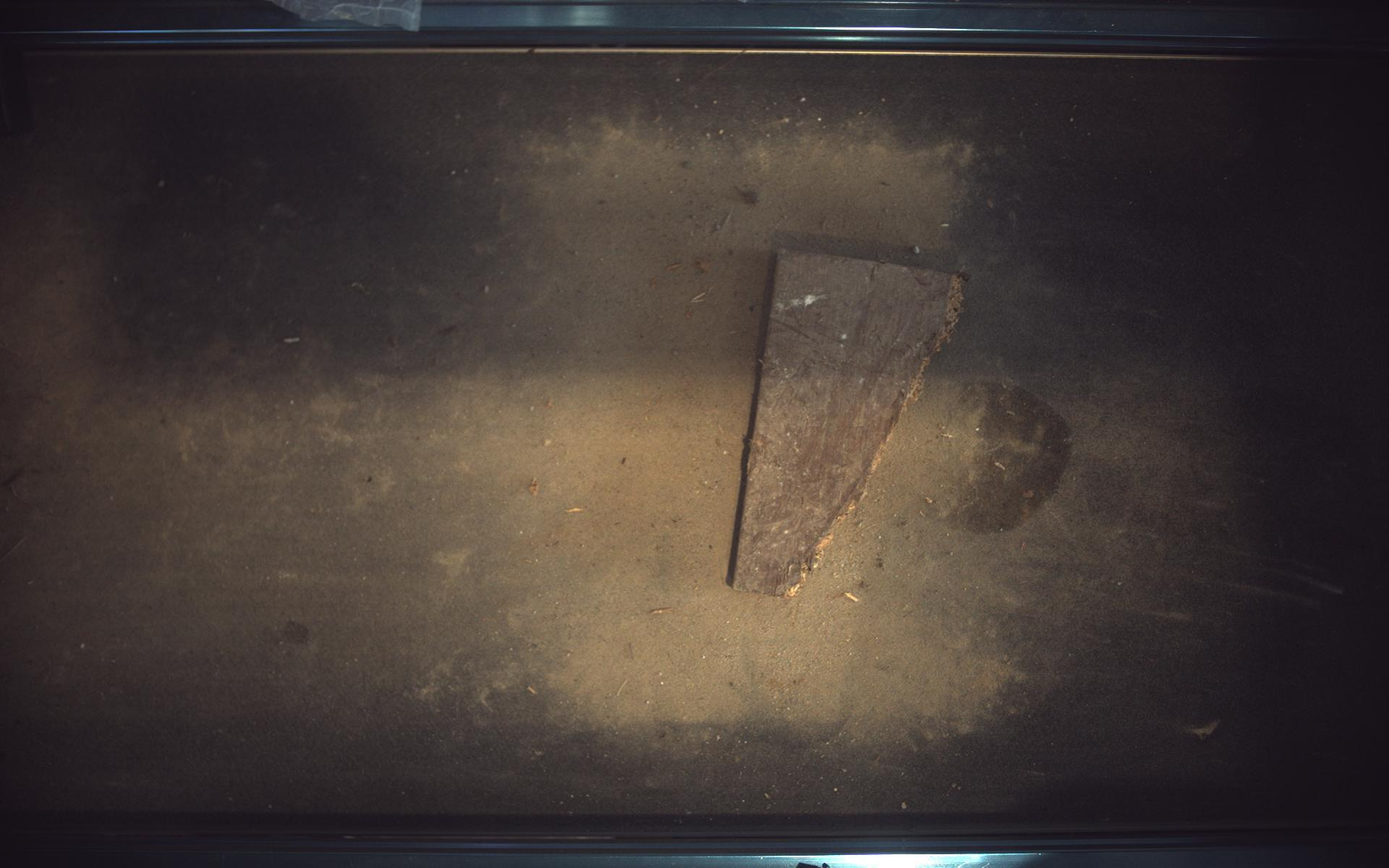wood: (731, 234, 965, 596)
